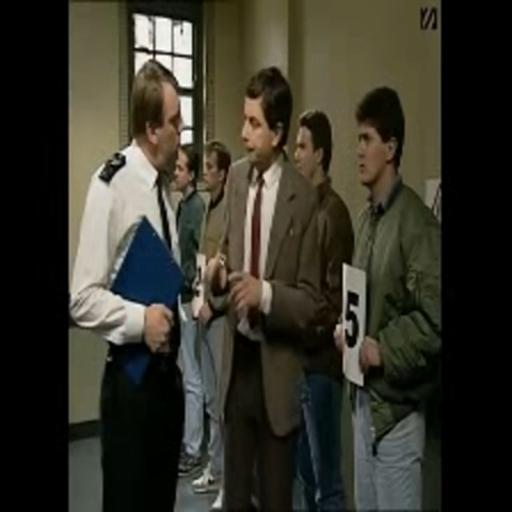nao-violencia: (70, 46, 333, 512)
